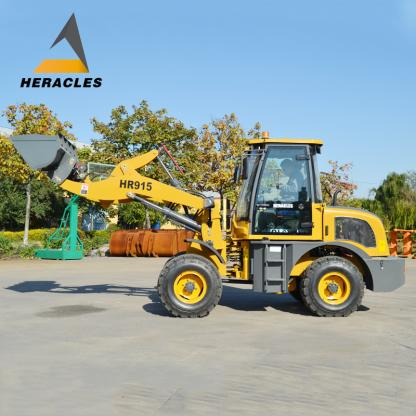bull_dozer/loader/grader: (8, 106, 413, 324)
